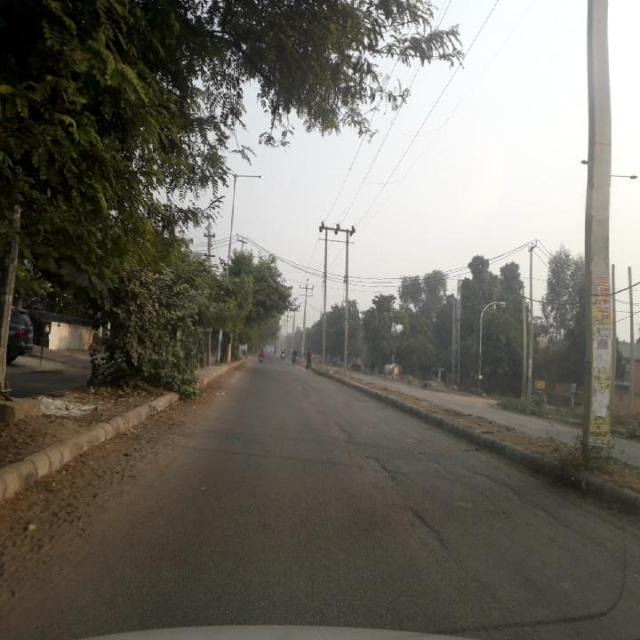D00: (457, 460, 572, 534)
D40: (316, 411, 404, 489), (388, 499, 454, 556)
